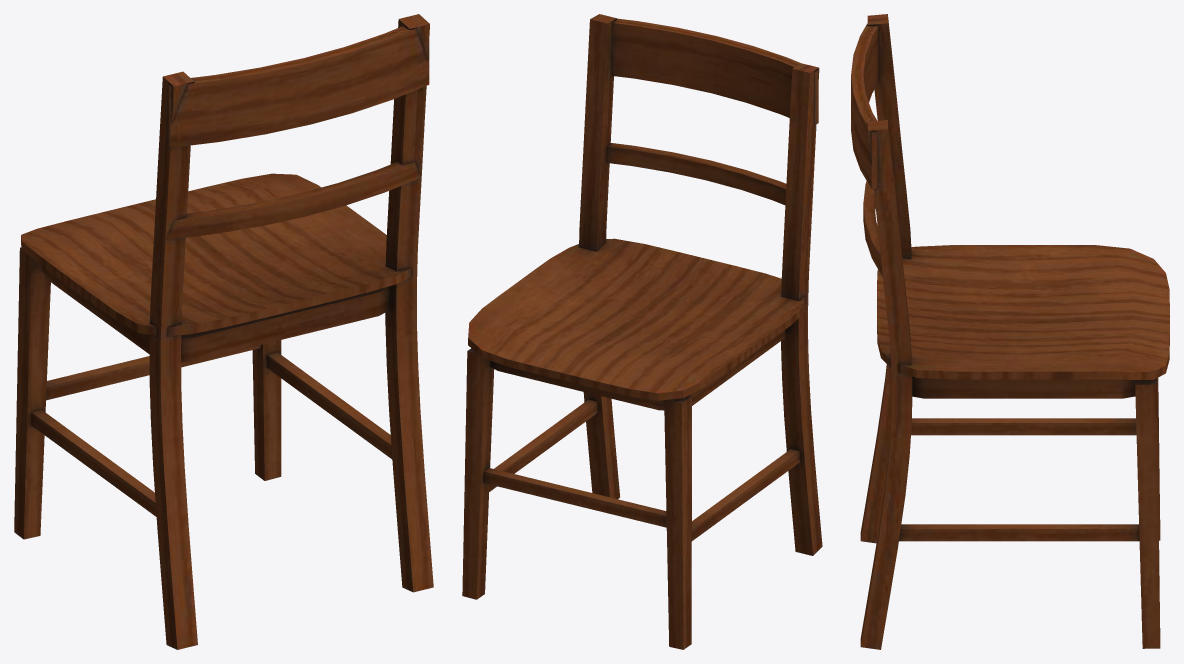
The model's file is chair_bent_lod1_web.glb.
3 renders of one model, left to right at view 1: azimuth 30°, elevation 25°; view 2: azimuth 150°, elevation 25°; view 3: azimuth 270°, elevation 25°, orthographic. The views are drawn at different scales.
Visible parts, largest first — view 1: ChairBent_Mesh; view 2: ChairBent_Mesh; view 3: ChairBent_Mesh.
Boxes of the visible parts, x1,y1,x2,y2 form: ChairBent_Mesh: (14, 14, 433, 649); ChairBent_Mesh: (462, 14, 822, 649); ChairBent_Mesh: (851, 14, 1169, 649).
Bounding box in the file's own units: 0.44 × 0.8437 × 0.468.
Materials: 1 (1 with a texture image).
